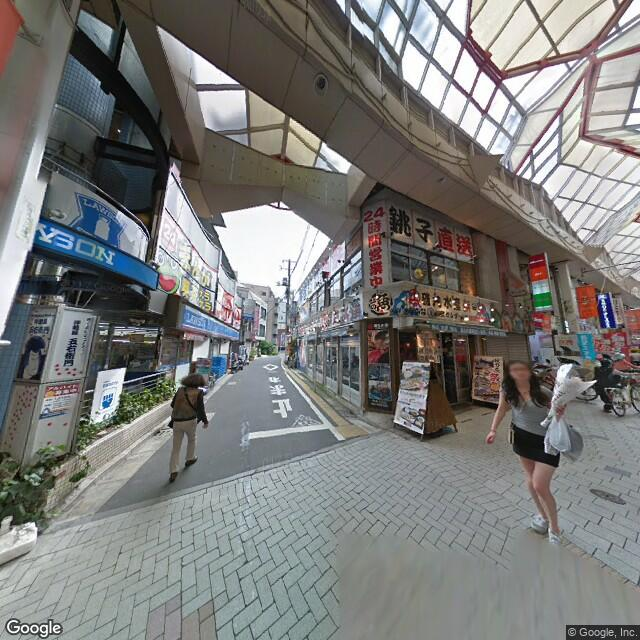lawson: (69, 189, 132, 253), (180, 307, 246, 348)
